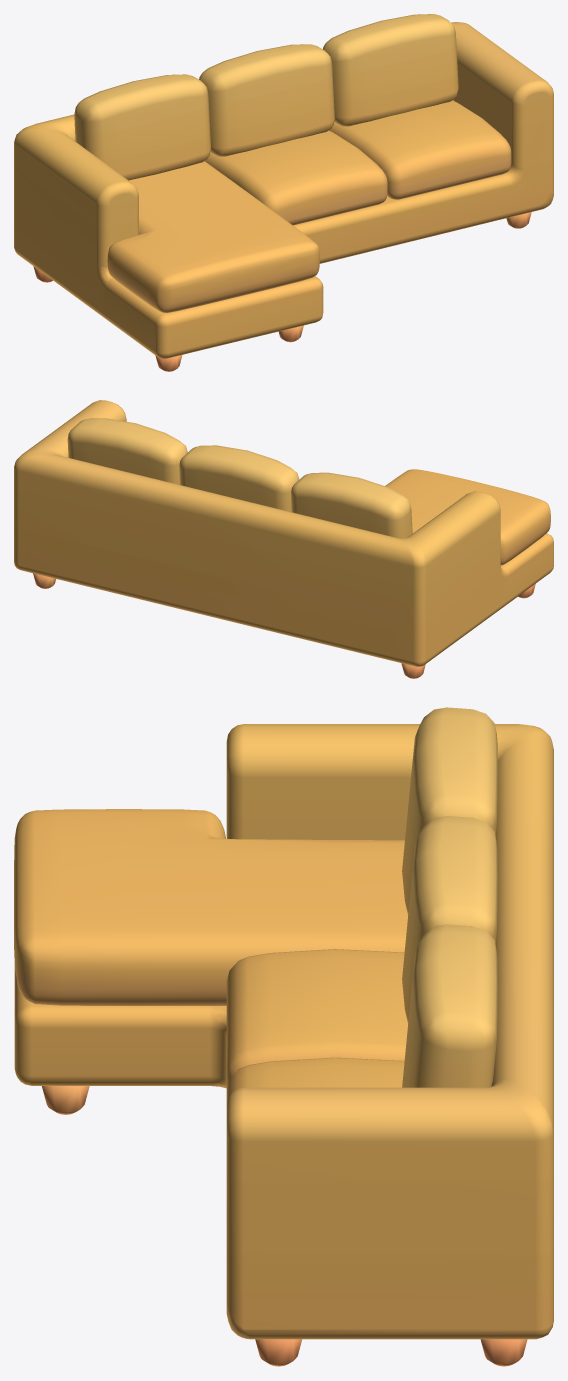
File: Couch_07.glb
3 renders of one model, top to bottom at view 1: azimuth 30°, elevation 25°; view 2: azimuth 150°, elevation 25°; view 3: azimuth 270°, elevation 25°, orthographic. The views are drawn at different scales.
Parts seen in each view (by area): view 1: Couch_07; view 2: Couch_07; view 3: Couch_07.
Part boxes in pixels (box(x1,y1,x2,y2)): Couch_07: box(14, 14, 553, 371); Couch_07: box(14, 400, 553, 678); Couch_07: box(14, 707, 553, 1366).
Bounding box in the file's own units: 2.21 × 0.8621 × 1.26.
Materials: 1 (1 with a texture image).
